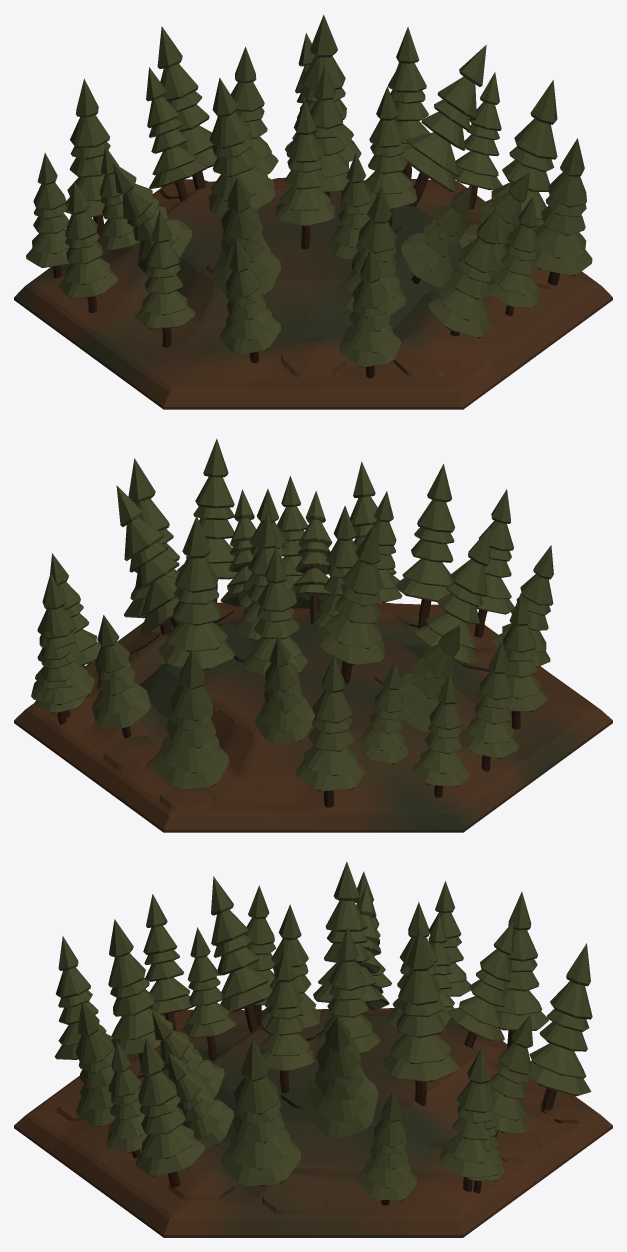
Rendered from temperateRainforest.glb.
3 renders of one model, top to bottom at view 1: azimuth 30°, elevation 25°; view 2: azimuth 150°, elevation 25°; view 3: azimuth 270°, elevation 25°, orthographic.
Parts seen in each view (by area): view 1: temperateRainforest; view 2: temperateRainforest; view 3: temperateRainforest.
Boxes of the visible parts, x1,y1,x2,y2 form: temperateRainforest: (14, 14, 612, 409); temperateRainforest: (14, 438, 612, 832); temperateRainforest: (14, 861, 612, 1237).
Size of the model in its own units: 1.73 by 0.8522 by 2.
